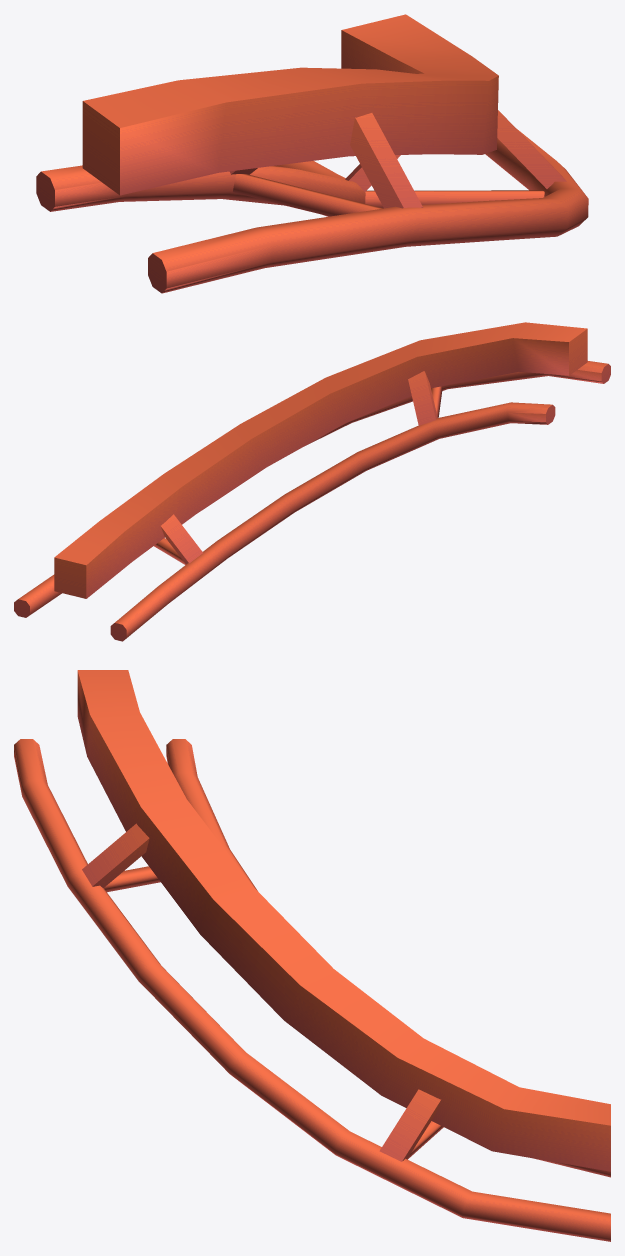
Rendered from coaster-hanging-corner-small-ramp.glb.
The picture shows the model from 3 angles, top to bottom: view 1: azimuth 30°, elevation 25°; view 2: azimuth 150°, elevation 25°; view 3: azimuth 270°, elevation 25°; orthographic projection. The views are drawn at different scales.
Parts seen in each view (by area): view 1: coaster-hanging-corner-small-ramp; view 2: coaster-hanging-corner-small-ramp; view 3: coaster-hanging-corner-small-ramp.
Boxes of the visible parts, x1,y1,x2,y2 form: coaster-hanging-corner-small-ramp: (36, 14, 588, 293); coaster-hanging-corner-small-ramp: (14, 322, 610, 641); coaster-hanging-corner-small-ramp: (14, 670, 610, 1241).
Bounding box in the file's own units: 7.05 × 4.2 × 7.05.
Materials: 1 (1 with a texture image).
